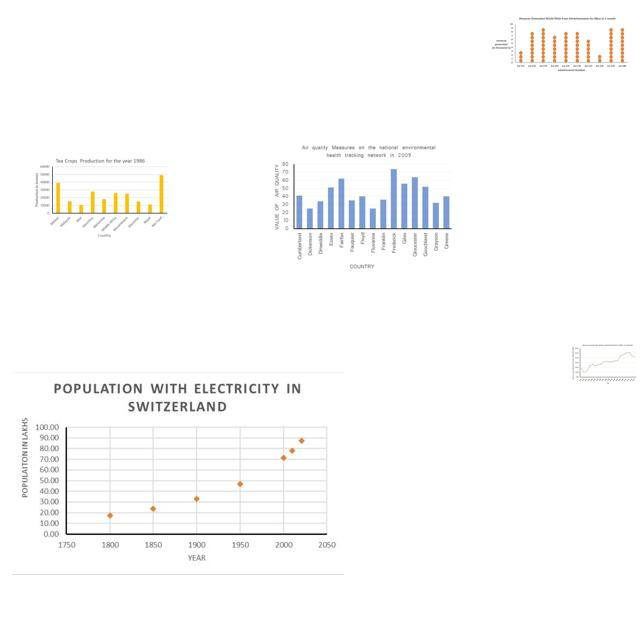Graph: (12, 372, 344, 575), (269, 140, 455, 272), (32, 156, 170, 238), (487, 15, 630, 75), (571, 343, 637, 384)
